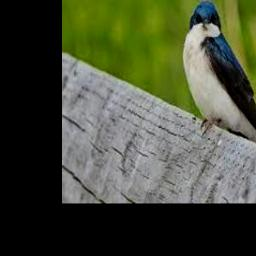Swallow: (183, 0, 256, 152)
